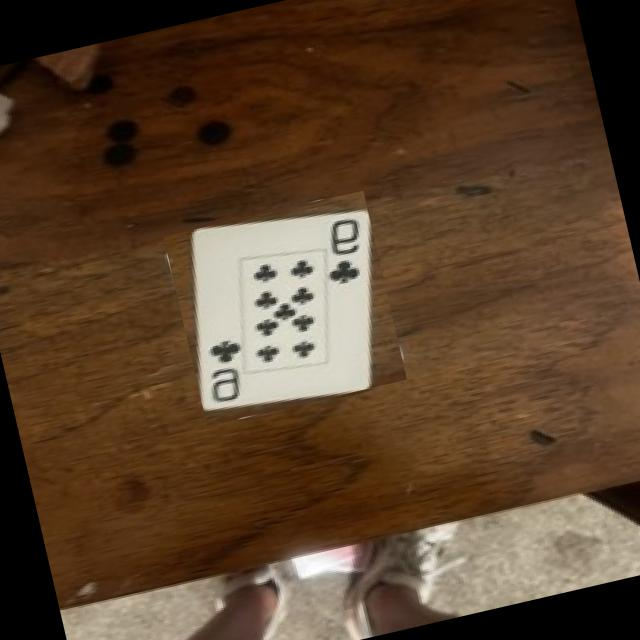9 of clubs: (190, 213, 369, 410)
